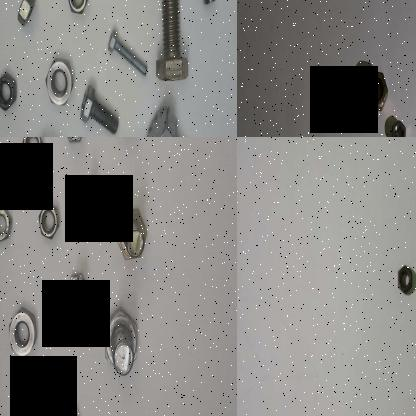Bolts: (151, 0, 193, 88), (102, 304, 142, 382), (76, 79, 127, 137), (100, 26, 152, 80), (113, 202, 149, 270), (143, 97, 199, 137), (63, 266, 92, 320), (82, 174, 98, 209), (60, 137, 89, 147)
NUTS: (3, 304, 38, 365), (40, 56, 76, 108), (33, 197, 59, 248), (0, 67, 24, 122), (363, 68, 390, 112), (17, 137, 47, 175), (38, 395, 86, 416), (14, 0, 42, 29), (396, 262, 416, 296), (0, 199, 13, 249), (60, 0, 90, 19), (388, 117, 410, 137)
